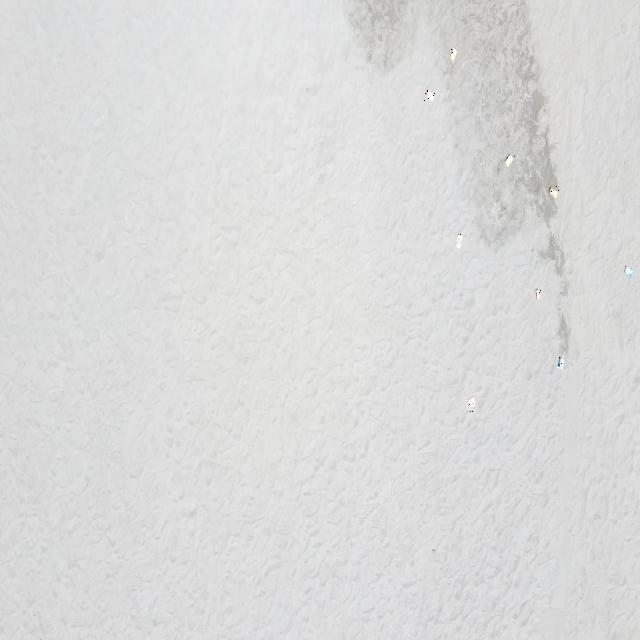Garbage: (424, 88, 435, 100), (467, 396, 475, 412), (548, 184, 557, 198), (504, 156, 515, 166), (624, 264, 633, 276), (455, 232, 462, 247), (449, 48, 455, 63), (556, 356, 563, 367), (535, 287, 540, 299)
